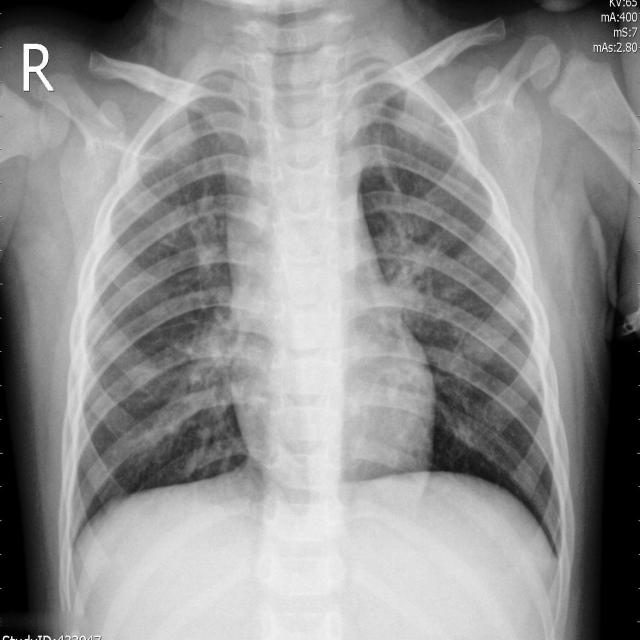low-pneumonia: (366, 161, 471, 373), (142, 62, 236, 209), (159, 302, 240, 466)
